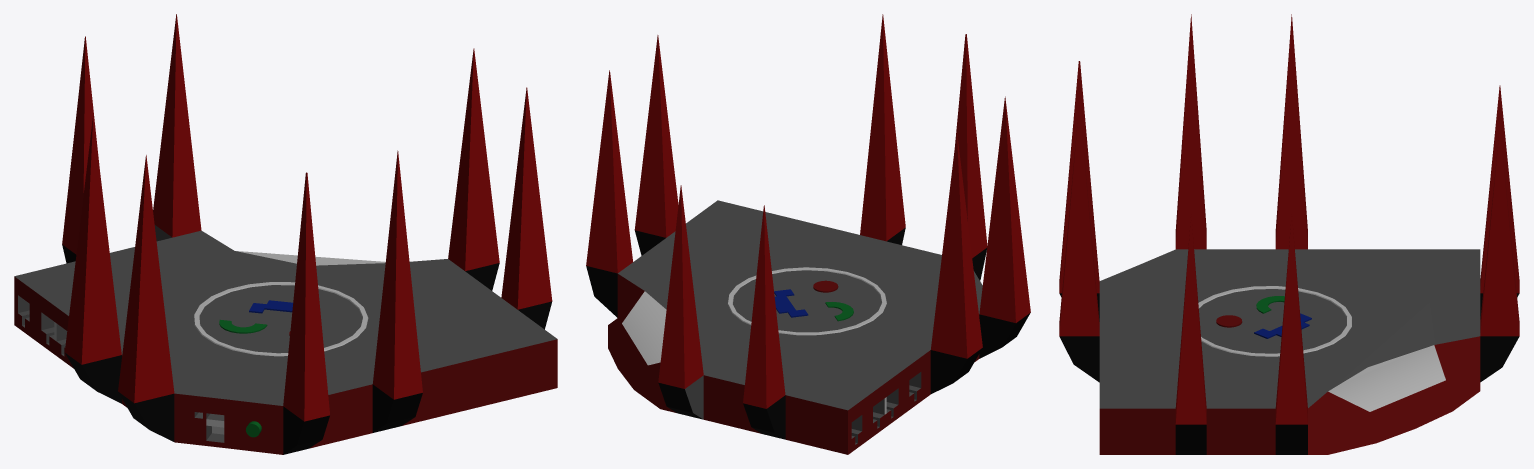
Rendered from SM_WIFI.fbx.
3 renders of one model, left to right at view 1: azimuth 30°, elevation 25°; view 2: azimuth 150°, elevation 25°; view 3: azimuth 270°, elevation 25°, orthographic. The views are drawn at different scales.
Visible parts, largest first — view 1: pCube4; view 2: pCube4; view 3: pCube4.
Part boxes in pixels (x1,y1,x2,y2): pCube4: (14, 14, 557, 454); pCube4: (586, 14, 1030, 454); pCube4: (1059, 14, 1519, 454).
Bounding box in the file's own units: 60.36 × 39.57 × 60.6.
